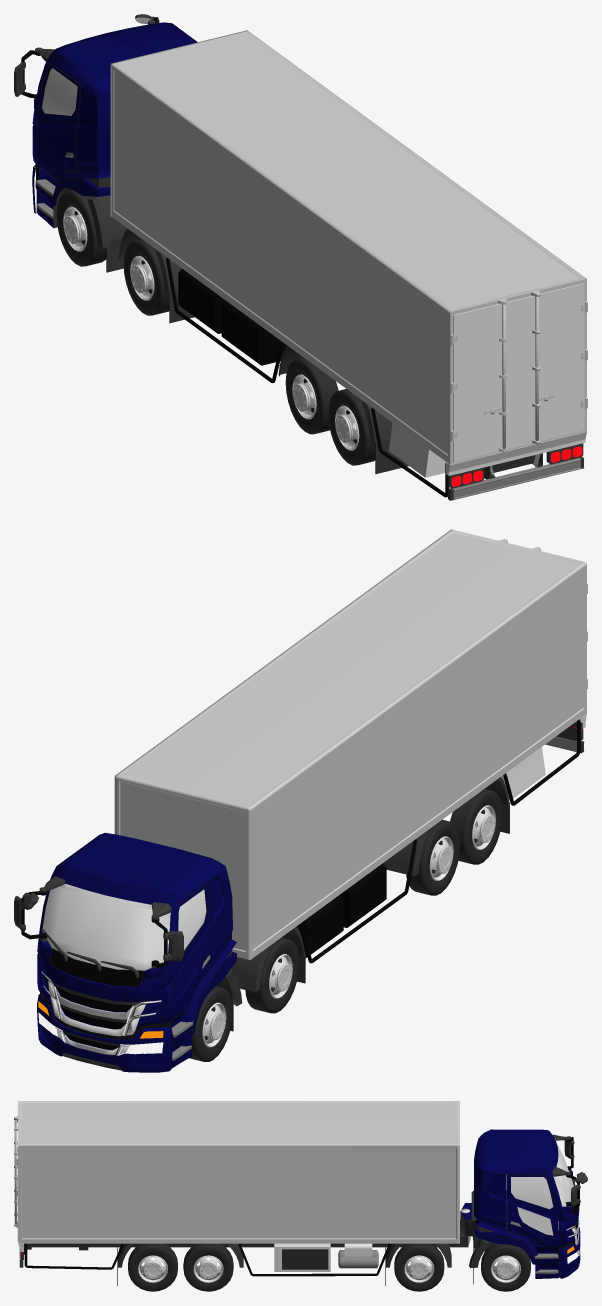
Rendered from truck.glb.
3 views of the same model, one above another, from view 1: azimuth 30°, elevation 25°; view 2: azimuth 150°, elevation 25°; view 3: azimuth 270°, elevation 25° (orthographic). The views are drawn at different scales.
Parts seen in each view (by area): view 1: truck-body, truck-head, truck-inside, truck-wheel-02, truck-wheel-03, truck-wheel-04; view 2: truck-body, truck-head, truck-wheel-03, truck-wheel-02, truck-wheel-04; view 3: truck-body, truck-head, truck-wheel-04, truck-wheel-02, truck-wheel-03.
Boxes of the visible parts, <box> form: truck-body: <box>110,30,587,500</box>; truck-head: <box>14,14,197,272</box>; truck-inside: <box>453,283,584,462</box>; truck-wheel-02: <box>285,357,338,434</box>; truck-wheel-03: <box>328,389,375,465</box>; truck-wheel-04: <box>123,239,169,315</box>; truck-body: <box>114,529,587,992</box>; truck-head: <box>14,832,242,1072</box>; truck-wheel-03: <box>450,788,502,864</box>; truck-wheel-02: <box>406,819,460,895</box>; truck-wheel-04: <box>245,937,299,1013</box>; truck-body: <box>14,1101,470,1285</box>; truck-head: <box>460,1129,587,1291</box>; truck-wheel-04: <box>394,1243,444,1291</box>; truck-wheel-02: <box>183,1243,233,1291</box>; truck-wheel-03: <box>128,1243,177,1291</box>.
Bounding box in the file's own units: 4.48 × 5.87 × 20.68.
